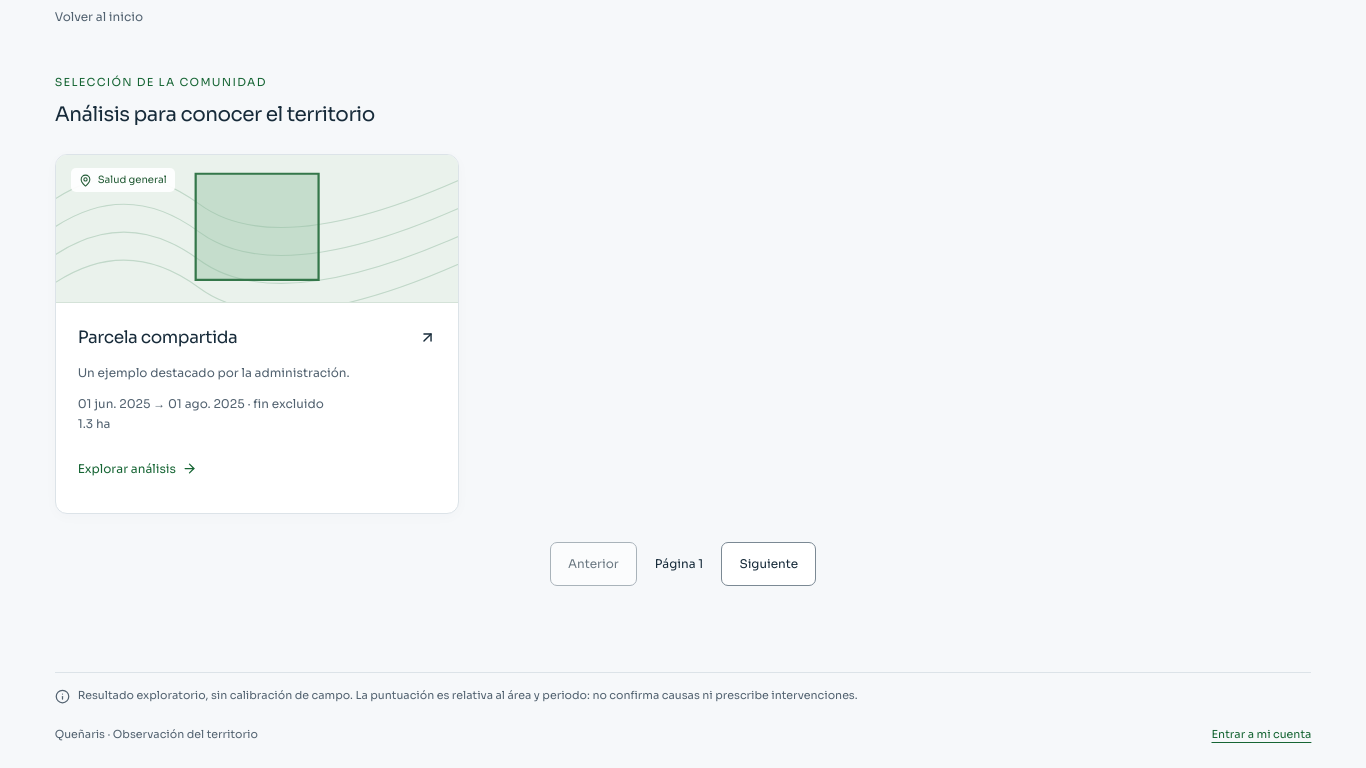
Test: Public discovery › paginates the public gallery and explains an empty collection
This screenshot has width=1366, height=768.
(page scrolled)
Expected: the link "Parcela compartida" is shown, 78,325 -> 436,350
Click the button "Siguiente" at [769, 564], box 721,542 -> 816,586
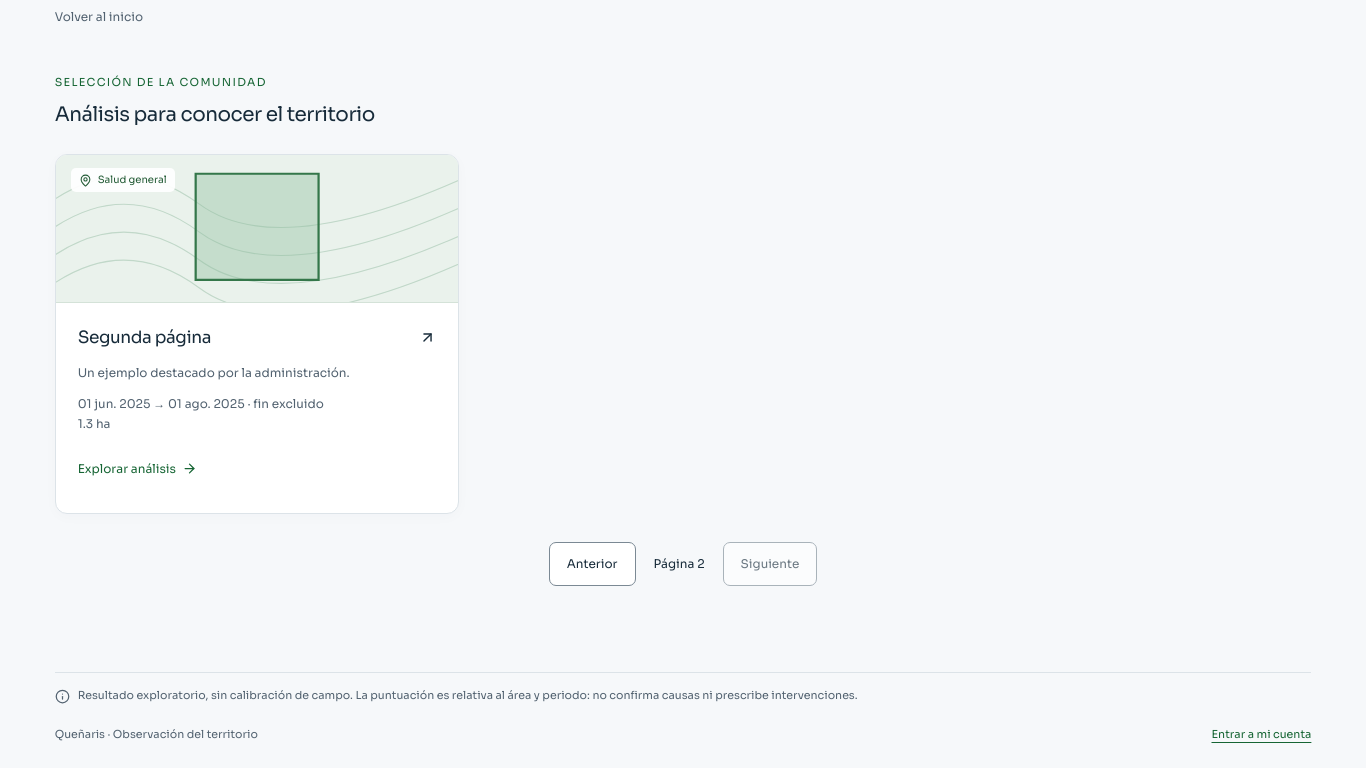
Now the link "Segunda página" is shown, box 78,325 -> 436,350
Now the button "Siguiente" is disabled, box 723,542 -> 817,586
